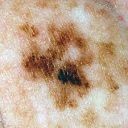Melanoma: (20, 21, 90, 91)
